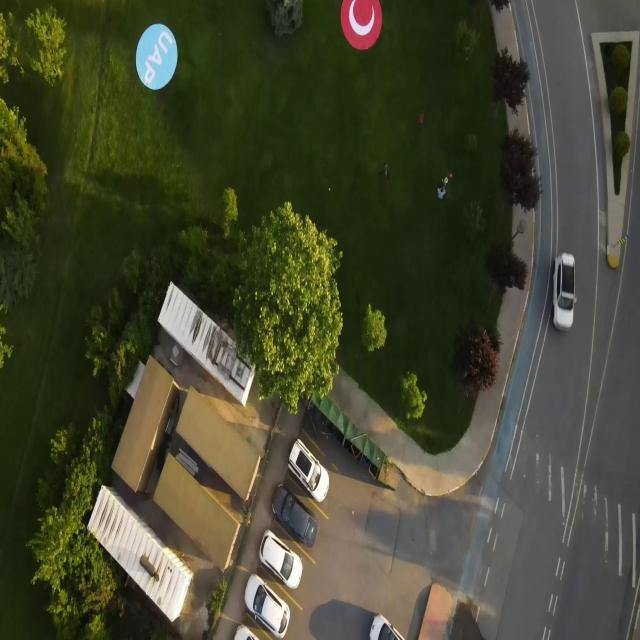p3rson: (379, 162, 389, 178), (437, 187, 446, 200), (418, 110, 424, 126)
